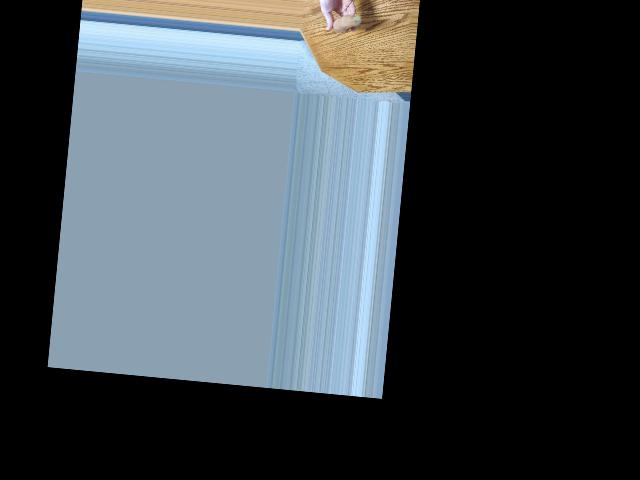sweet_potato: (330, 10, 362, 31)
